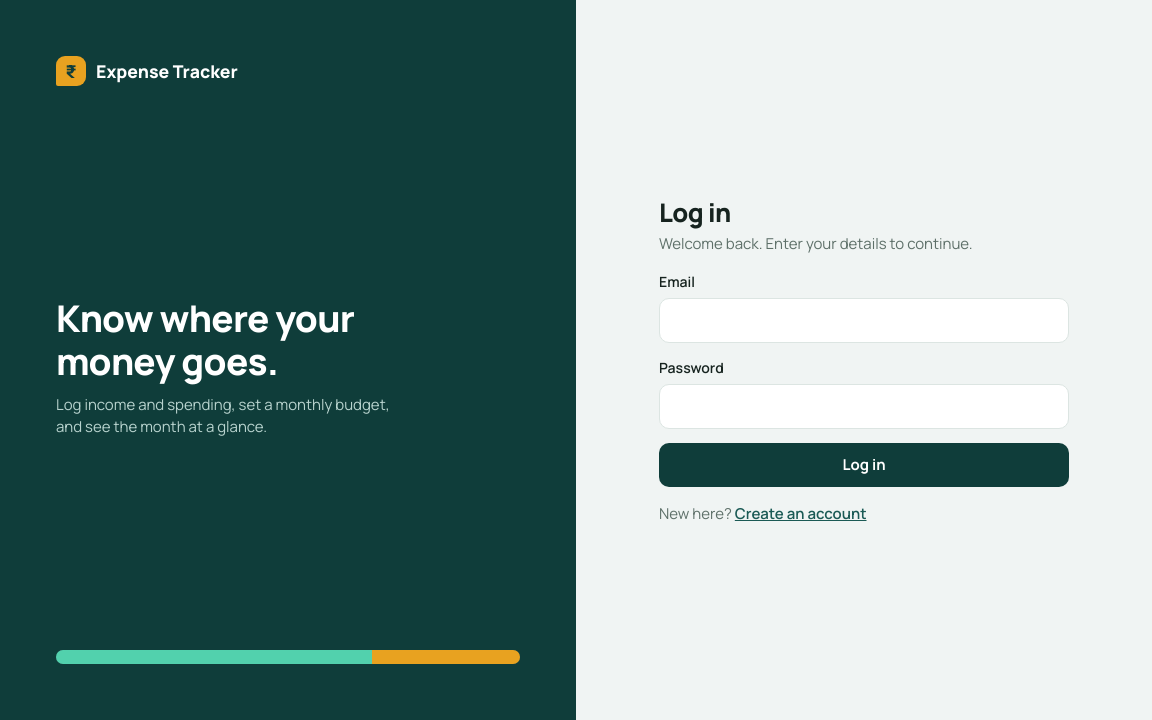
Test: Login page › shows validation errors for an empty form
This screenshot has width=1152, height=720.
Step 1. Click the button "Log in" → (864, 465), box [659,442,1069,487]
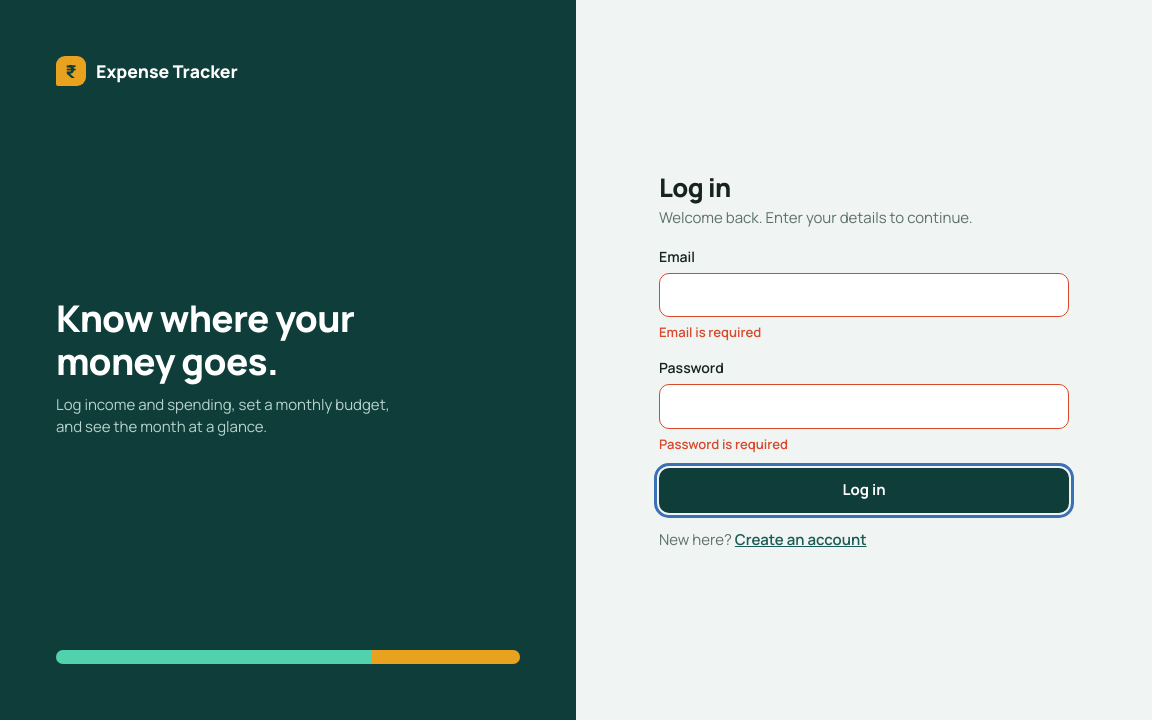
Result: the text "Email is required" is shown at [659,323,761,341]
Result: the text "Password is required" is shown at [659,434,788,452]
